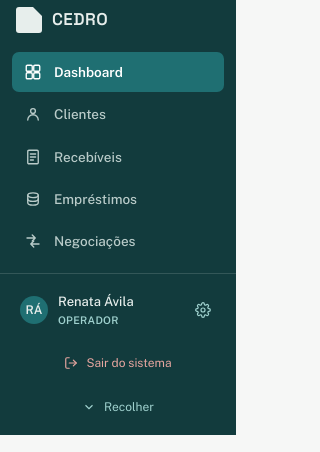
Test: Sidebar › opens the settings popover with Meu perfil, without Gerenciar usuários for a non-ADMIN
Step 1. Click the button named "Configurações" → (203,310), box [190,297,216,323]
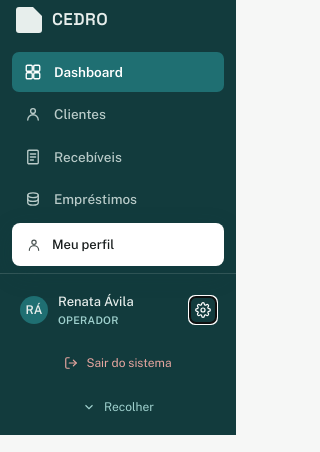
Result: the link "Meu perfil" is shown at [26,236,114,252]
